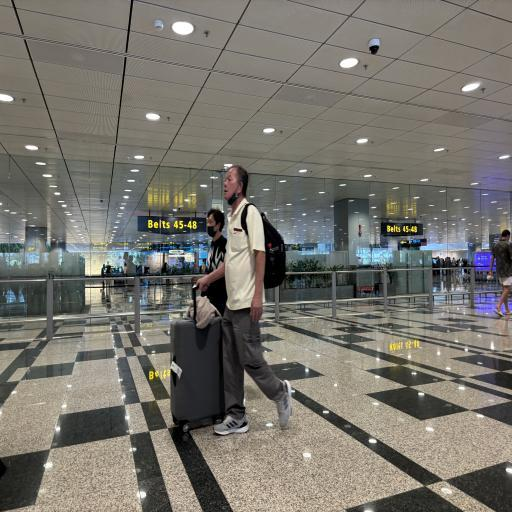person_with_luggage_left: (172, 146, 304, 443)
